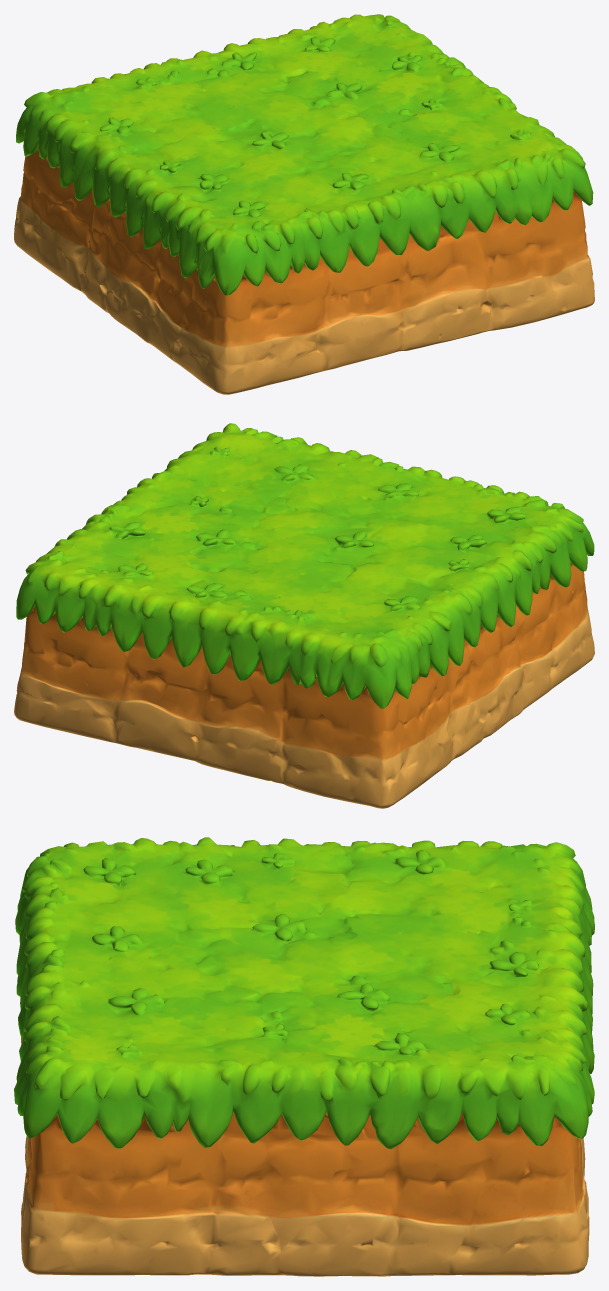
The model's file is display.glb.
3 views of the same model, one above another, from view 1: azimuth 30°, elevation 25°; view 2: azimuth 150°, elevation 25°; view 3: azimuth 270°, elevation 25° (orthographic). The views are drawn at different scales.
Parts seen in each view (by area): view 1: tripo_node_1b366a28-11d5-465c-a05a-eec0c2806613; view 2: tripo_node_1b366a28-11d5-465c-a05a-eec0c2806613; view 3: tripo_node_1b366a28-11d5-465c-a05a-eec0c2806613.
Part boxes in pixels (<box>): tripo_node_1b366a28-11d5-465c-a05a-eec0c2806613: <box>14,14,594,394</box>; tripo_node_1b366a28-11d5-465c-a05a-eec0c2806613: <box>14,423,594,808</box>; tripo_node_1b366a28-11d5-465c-a05a-eec0c2806613: <box>14,837,594,1276</box>.
Size of the model in its own units: 1 by 0.3904 by 0.9798.
1 material, 1 textured.
